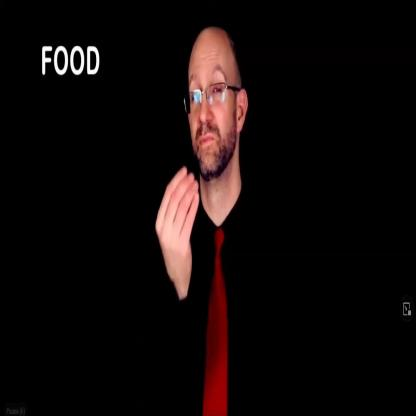Food: (152, 17, 278, 404)
